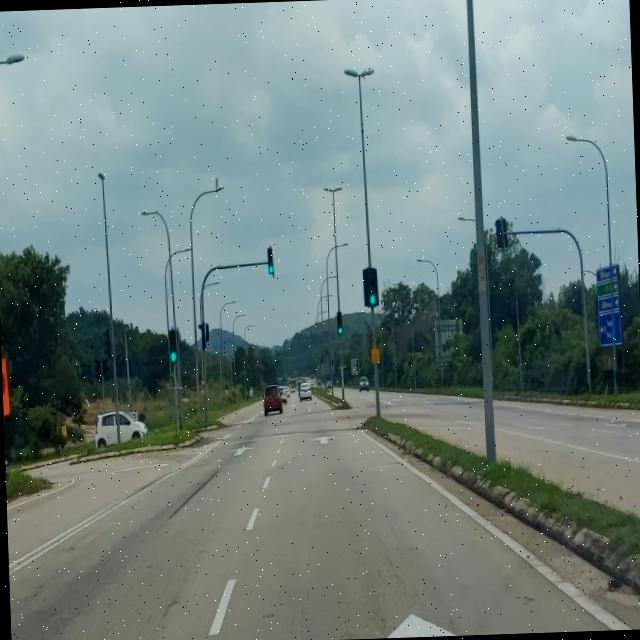green_light: (367, 266, 378, 306), (169, 328, 176, 362), (266, 247, 274, 272), (336, 310, 342, 335)
